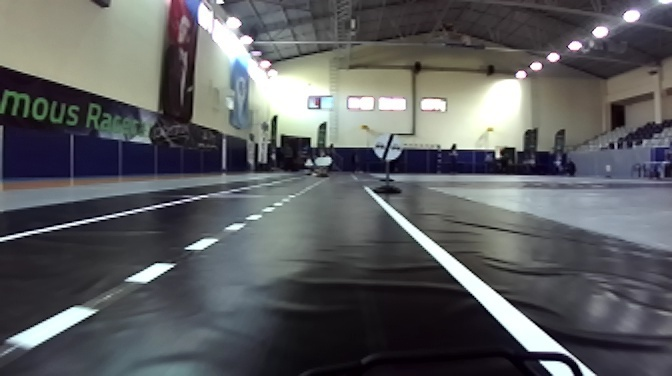sollama_serbest: (370, 131, 404, 161)
